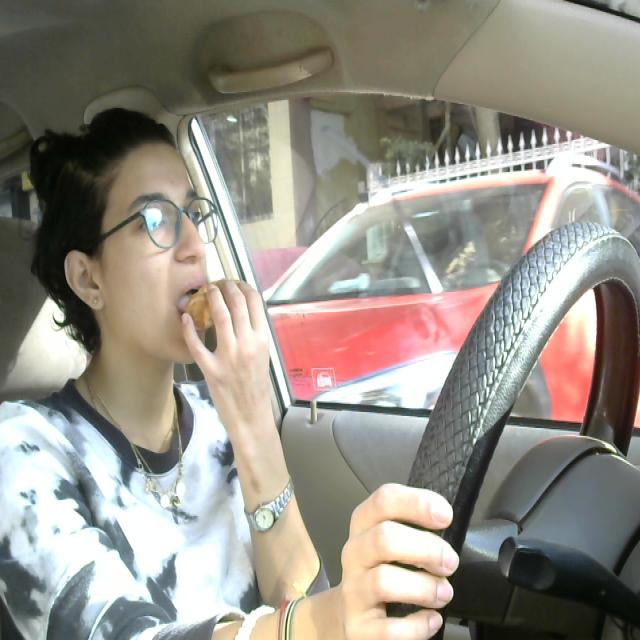eating: (170, 261, 243, 365)
